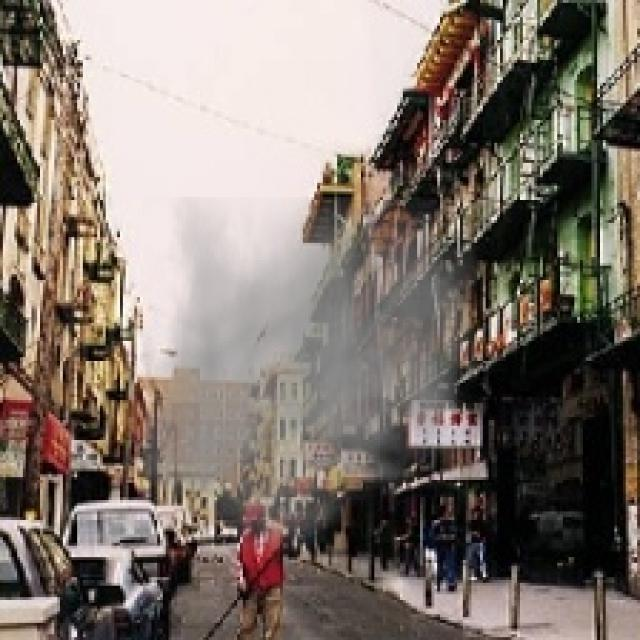Smoke: (137, 197, 480, 569)
